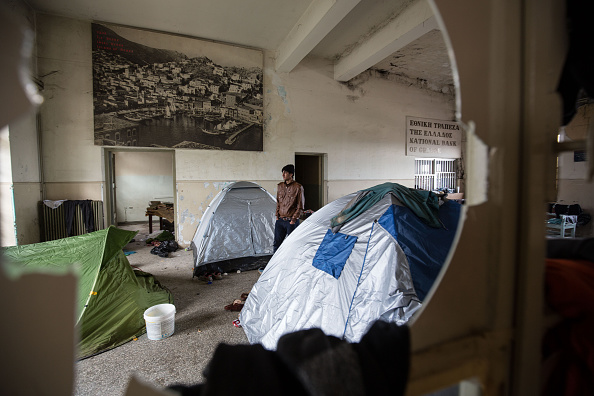em pe: (264, 159, 306, 224)
